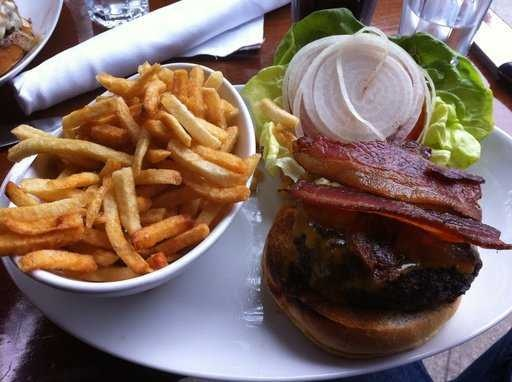hamburger: (244, 117, 493, 352)
